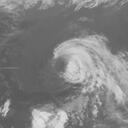cyclone: (51, 36, 116, 86)
